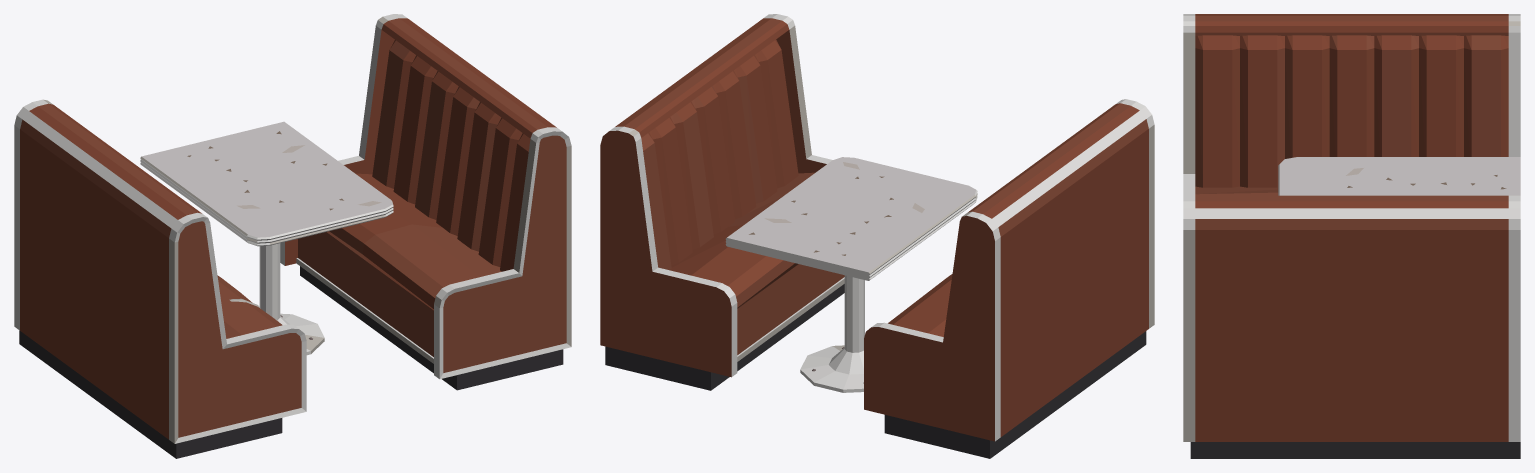
File: diner-booth-d804ce.glb
3 renders of one model, left to right at view 1: azimuth 30°, elevation 25°; view 2: azimuth 150°, elevation 25°; view 3: azimuth 270°, elevation 25°, orthographic. The views are drawn at different scales.
Parts seen in each view (by area): view 1: booth-vinyl, booth-chrome; view 2: booth-vinyl, booth-chrome; view 3: booth-vinyl, booth-chrome.
Boxes of the visible parts, <box> form: booth-vinyl: <box>19,18,566,458</box>; booth-chrome: <box>14,14,571,443</box>; booth-vinyl: <box>600,18,1148,458</box>; booth-chrome: <box>610,14,1154,441</box>; booth-vinyl: <box>1190,14,1520,458</box>; booth-chrome: <box>1183,14,1520,441</box>.
Size of the model in its own units: 2 by 1.15 by 1.4.
